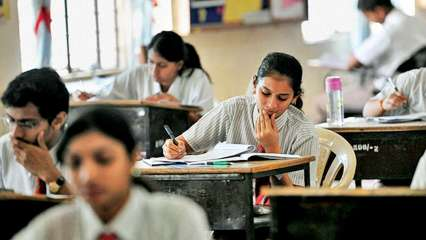student: (211, 46, 330, 172), (112, 29, 221, 109)
